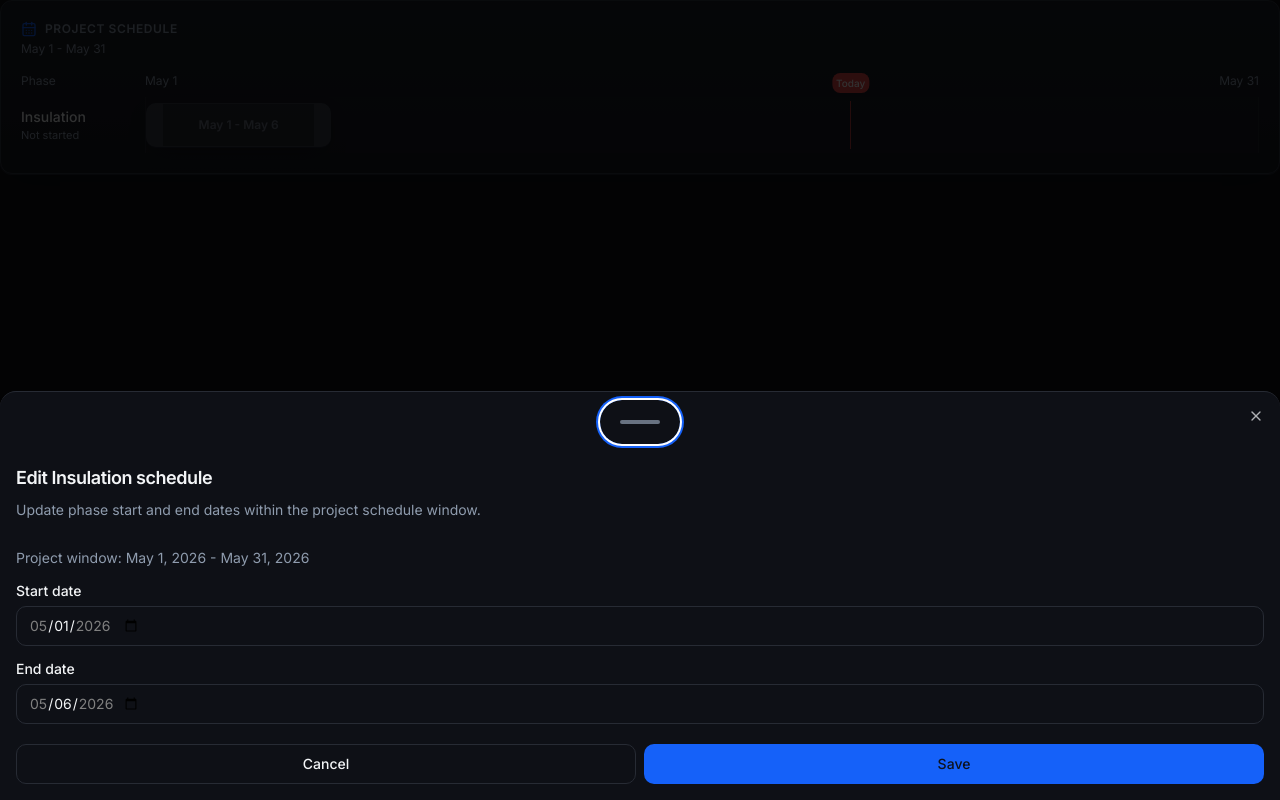
Test: ProjectScheduleTimeline › blocks mobile schedule edits outside project bounds
Earlier steps of the test are not shown.
Type "2026-06-01" into the date field labelled "End date" at [640, 704], box [16,684,1264,724]
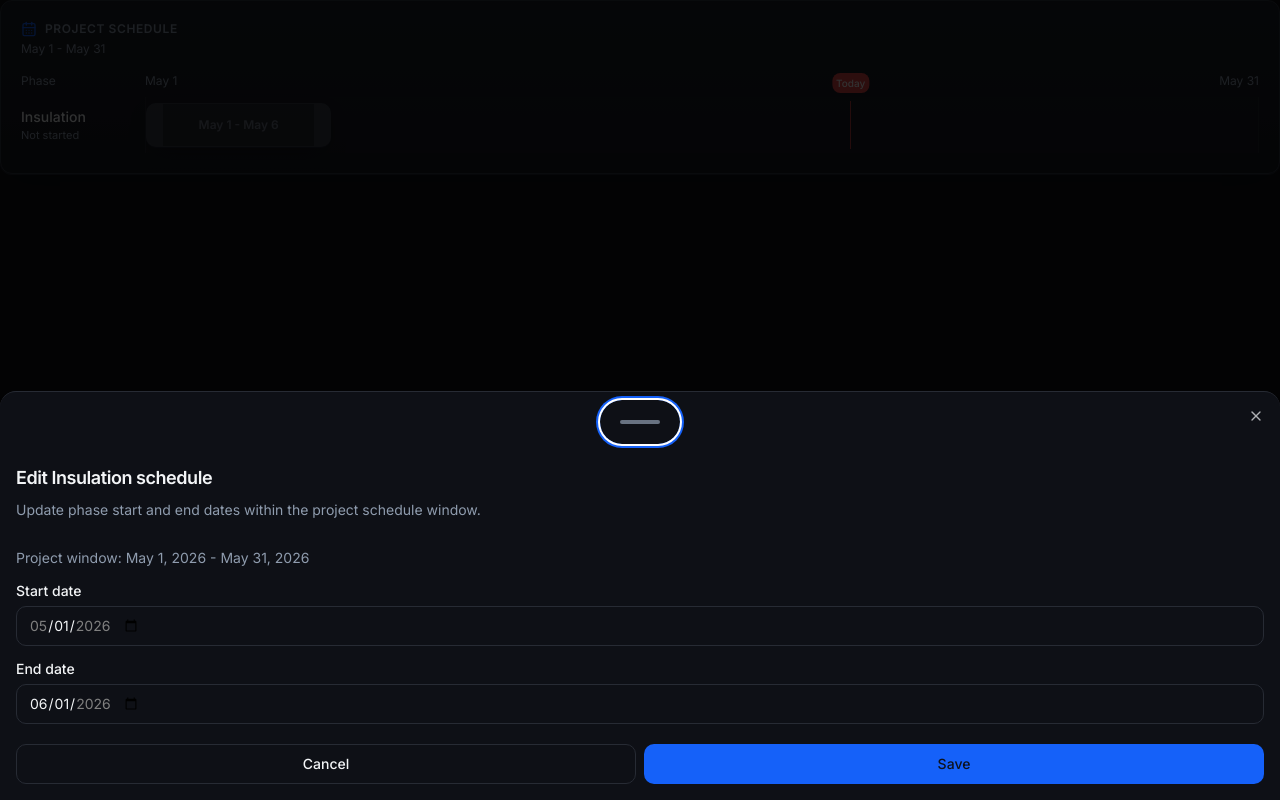
Click the button "Save" at [954, 764], box [644,744,1264,784]
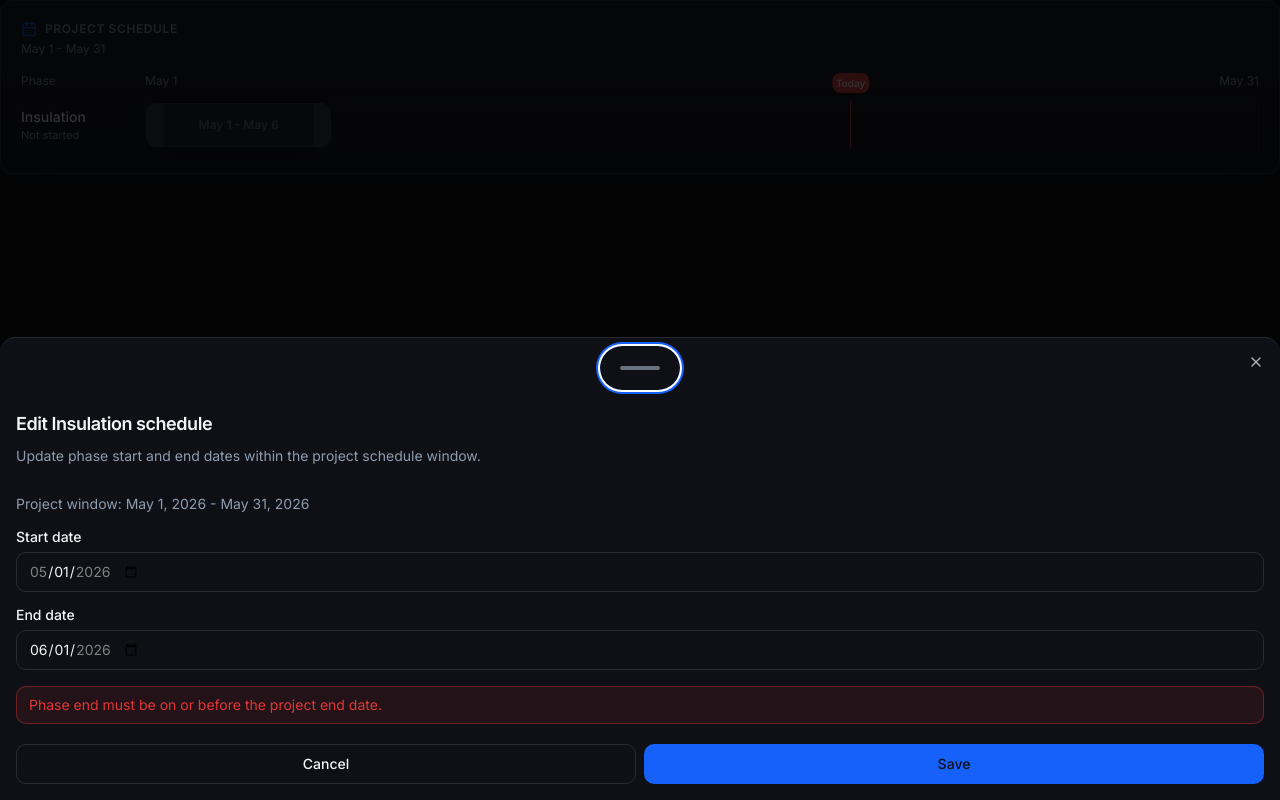
Expected: the text "Phase end must be on or before the project end date." is shown, [16,686,1264,724]
